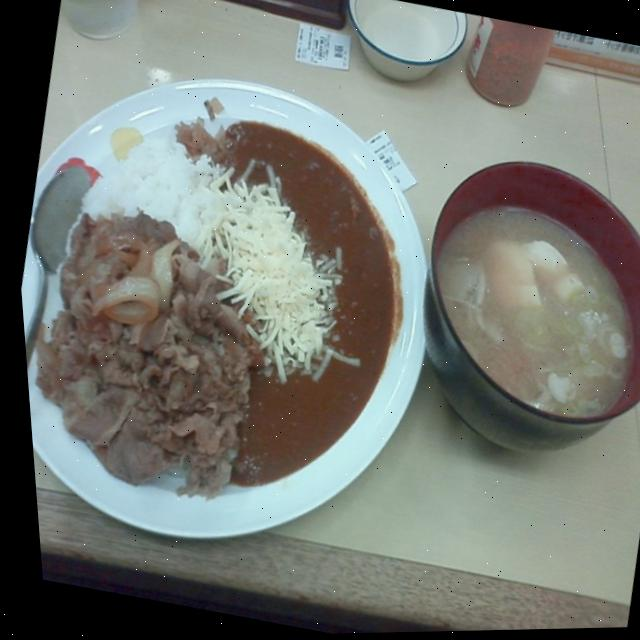牛肉菜式: (26, 89, 428, 492)
蔬菜料理: (399, 181, 640, 445)
